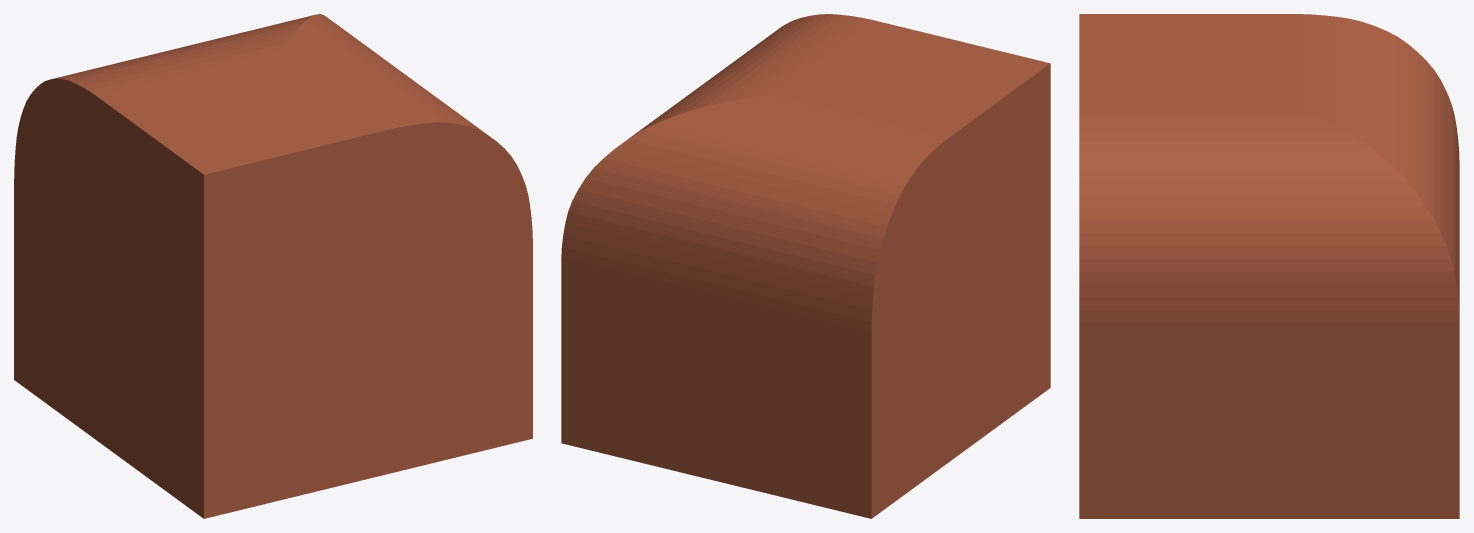
3 renders of one model, left to right at view 1: azimuth 30°, elevation 25°; view 2: azimuth 150°, elevation 25°; view 3: azimuth 270°, elevation 25°, orthographic. The views are drawn at different scales.
Visible parts, largest first — view 1: Cube.002; view 2: Cube.002; view 3: Cube.002.
Part boxes in pixels (box(x1,y1,x2,y2)): Cube.002: box(14, 14, 532, 518); Cube.002: box(561, 14, 1050, 518); Cube.002: box(1079, 14, 1459, 518).
Bounding box in the file's own units: 100 × 100 × 100.
